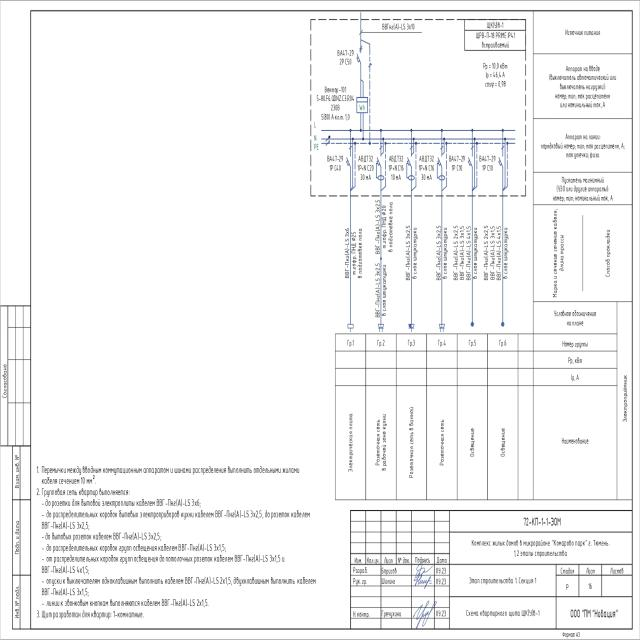-: (316, 84, 355, 121), (475, 30, 517, 50), (388, 154, 406, 182), (418, 154, 436, 182), (357, 154, 375, 182), (326, 154, 344, 172), (448, 154, 466, 172), (479, 154, 497, 172), (336, 48, 356, 64)
QF: (346, 153, 352, 170), (467, 153, 473, 170), (498, 152, 504, 168), (357, 51, 362, 65)
QFD: (375, 153, 386, 181), (436, 154, 447, 182), (406, 153, 416, 181)
WH: (356, 96, 368, 114)
